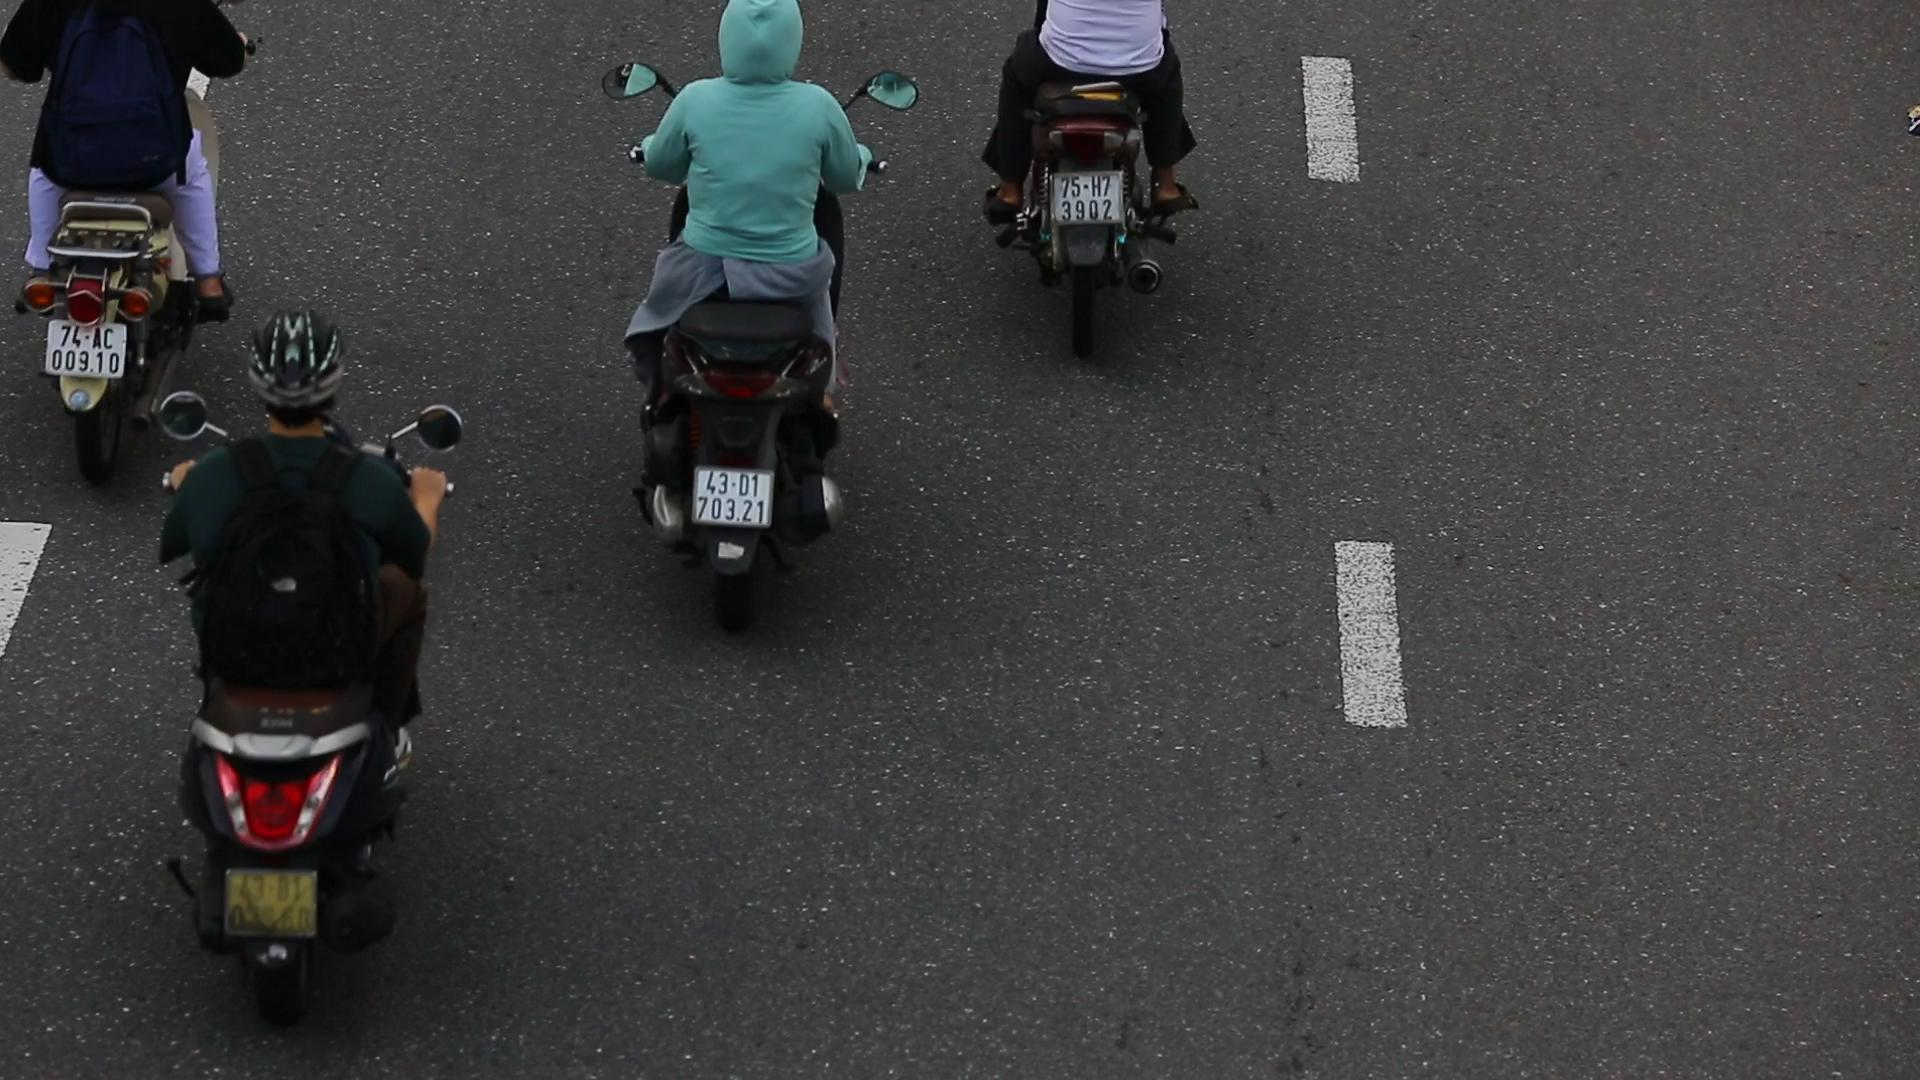motobike: (133, 297, 479, 1004), (588, 4, 934, 607)
